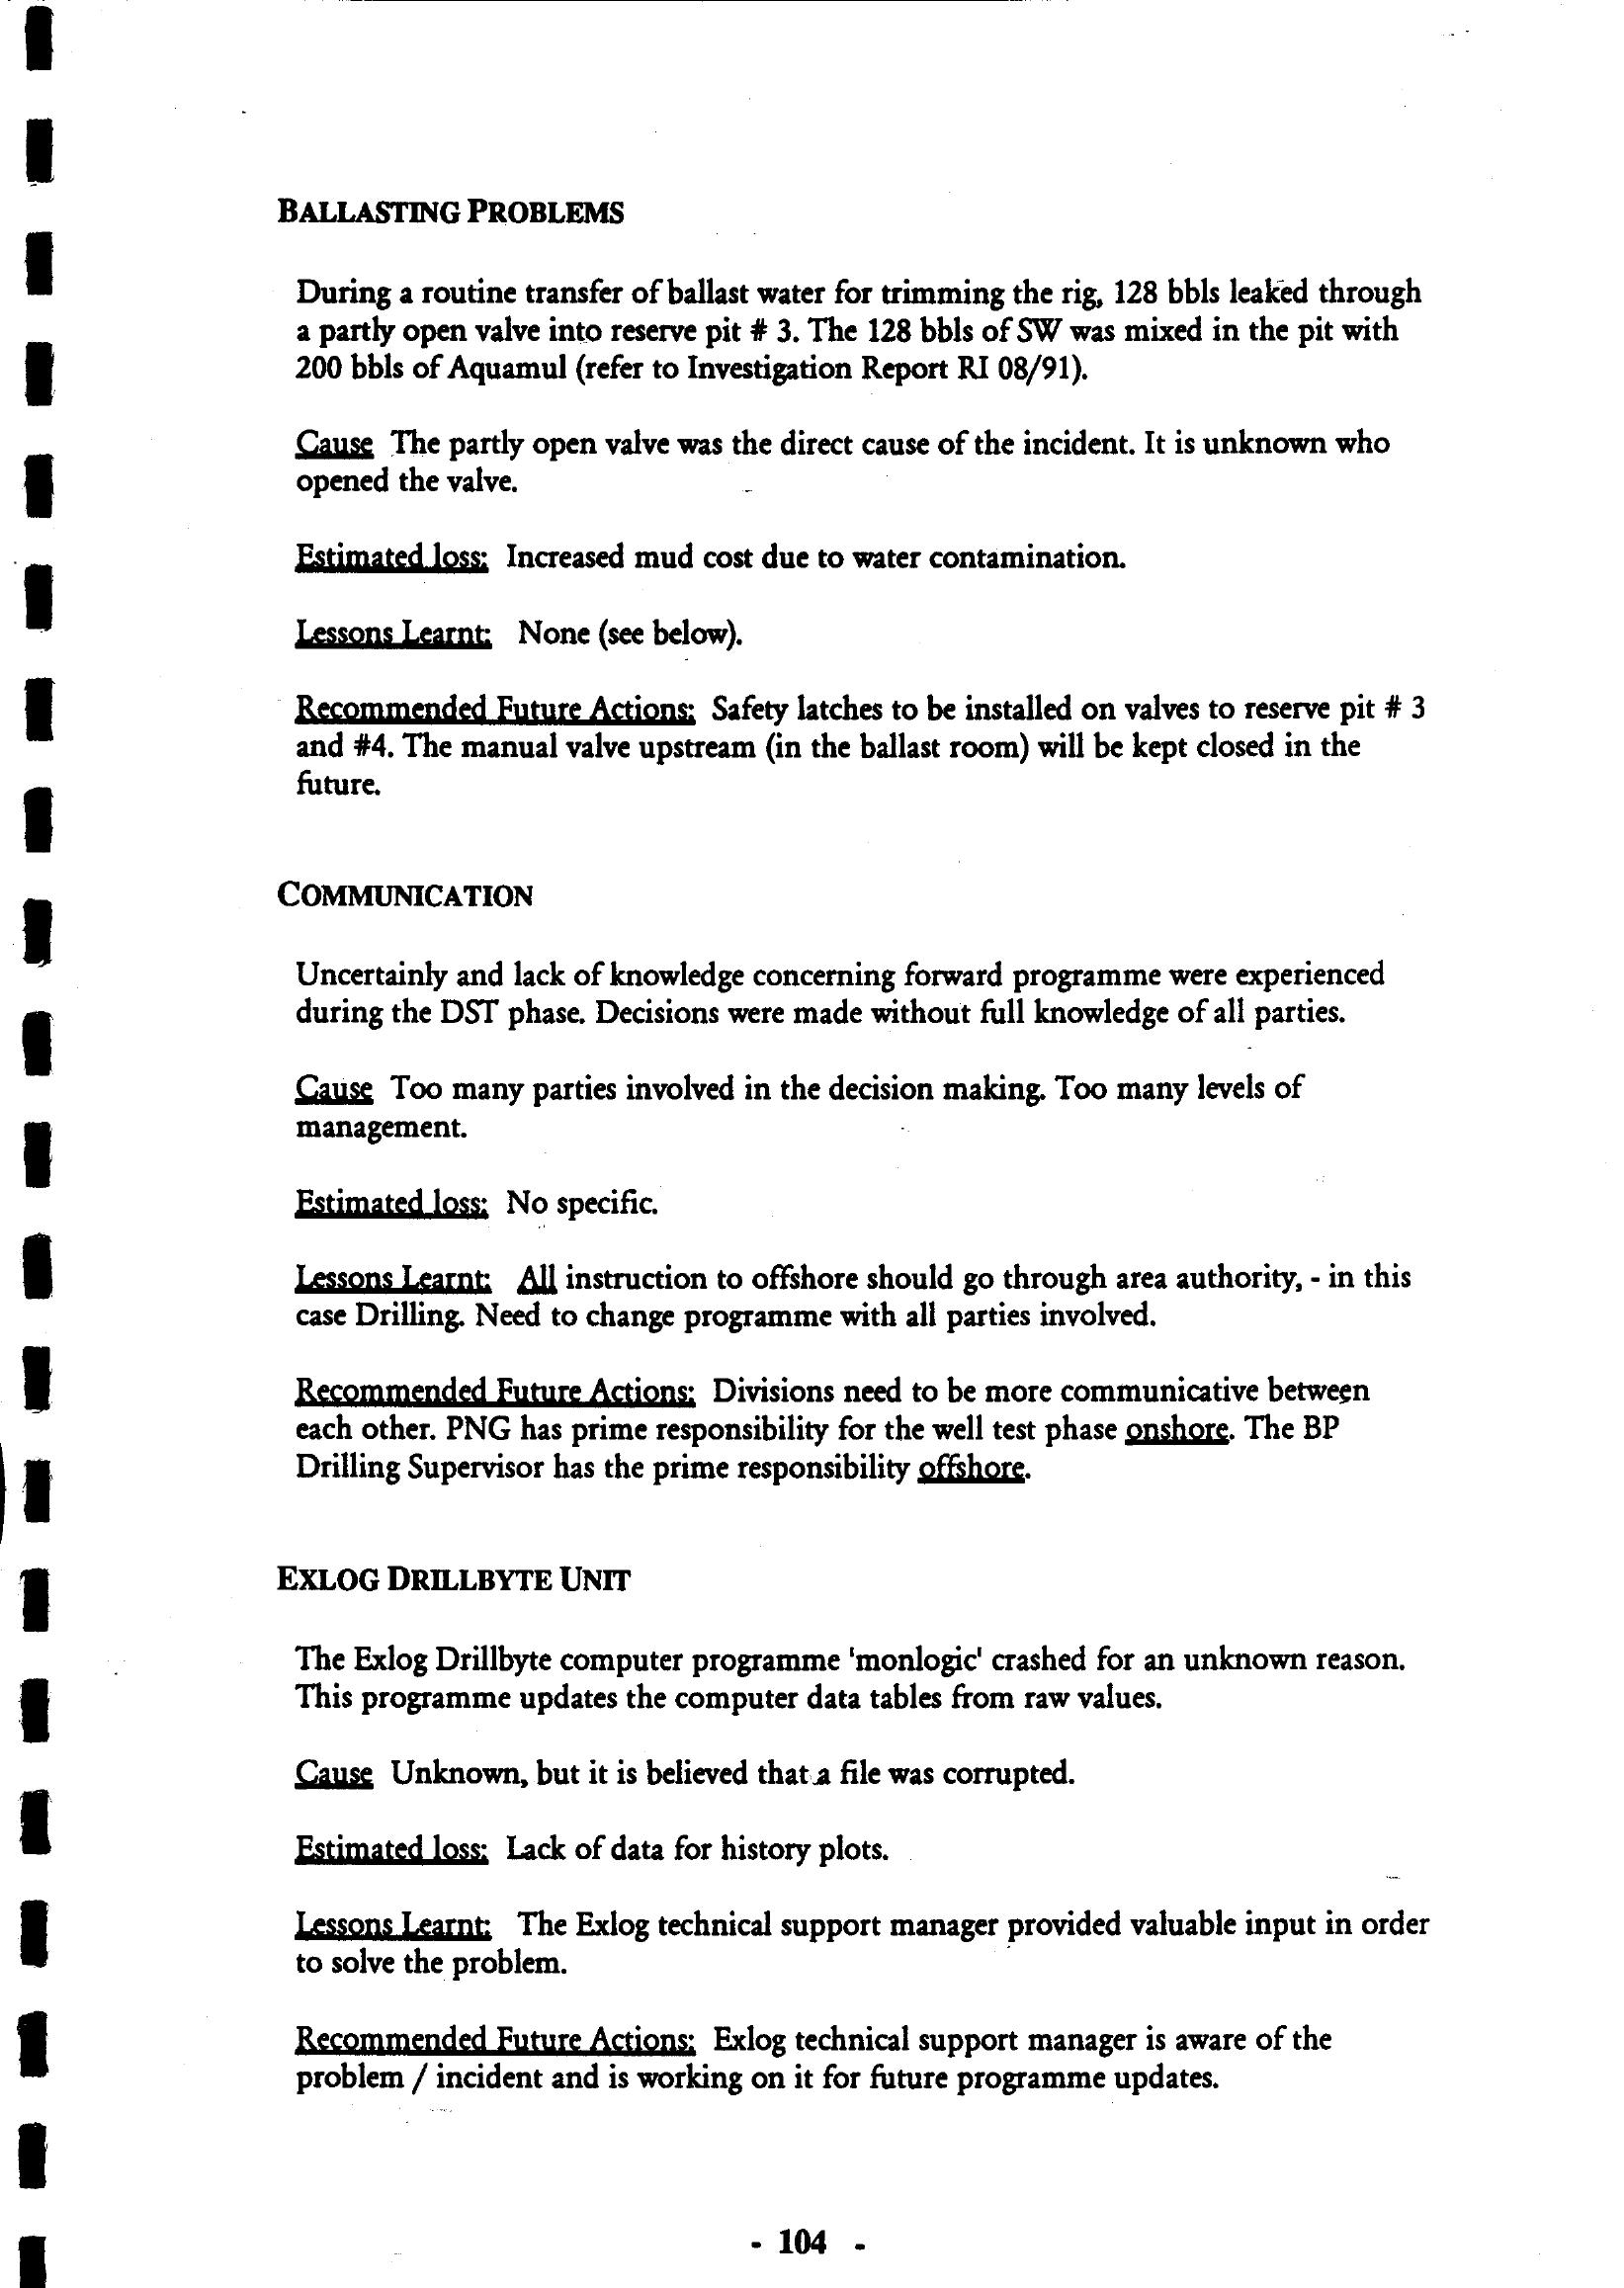text: (216, 169, 1489, 2130)
